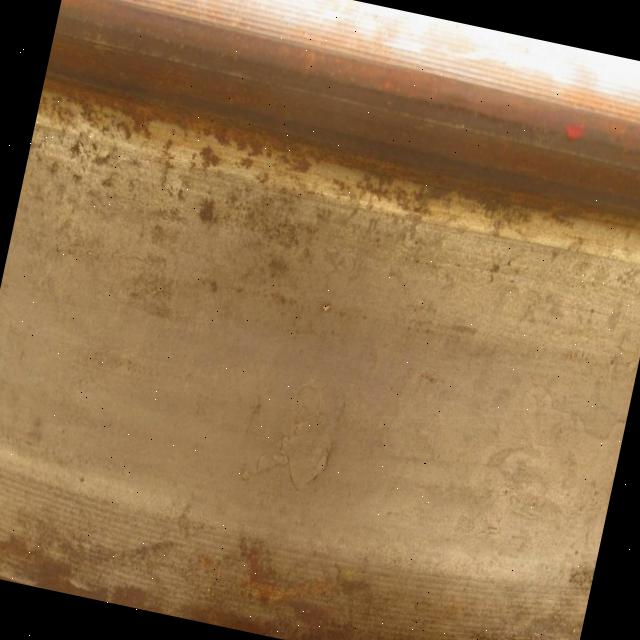Blue hole: (320, 297, 334, 319)
Contact_Fatigue_Cracks: (240, 369, 353, 500)
